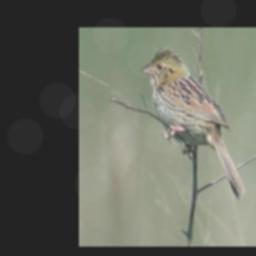Sparrow: (138, 45, 249, 203)
